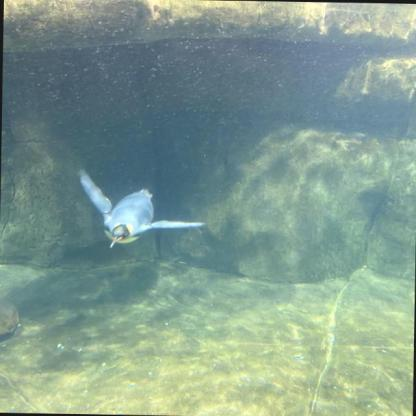penguin: (76, 168, 205, 250)
